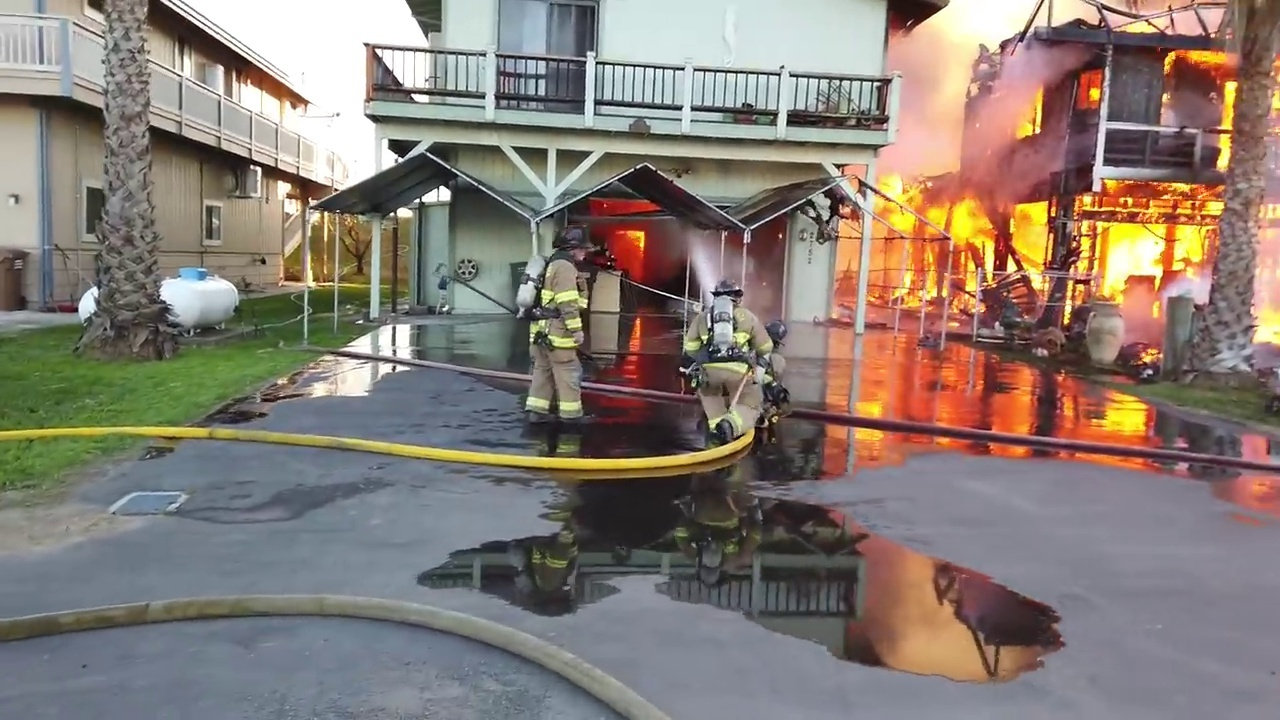fire: (872, 182, 1054, 336), (1090, 201, 1215, 289), (1166, 45, 1237, 74), (1219, 79, 1239, 167), (1017, 88, 1050, 137), (1251, 302, 1280, 345)
smoke: (903, 41, 1004, 174), (1004, 44, 1102, 82), (1013, 144, 1082, 180), (1258, 204, 1280, 303)
